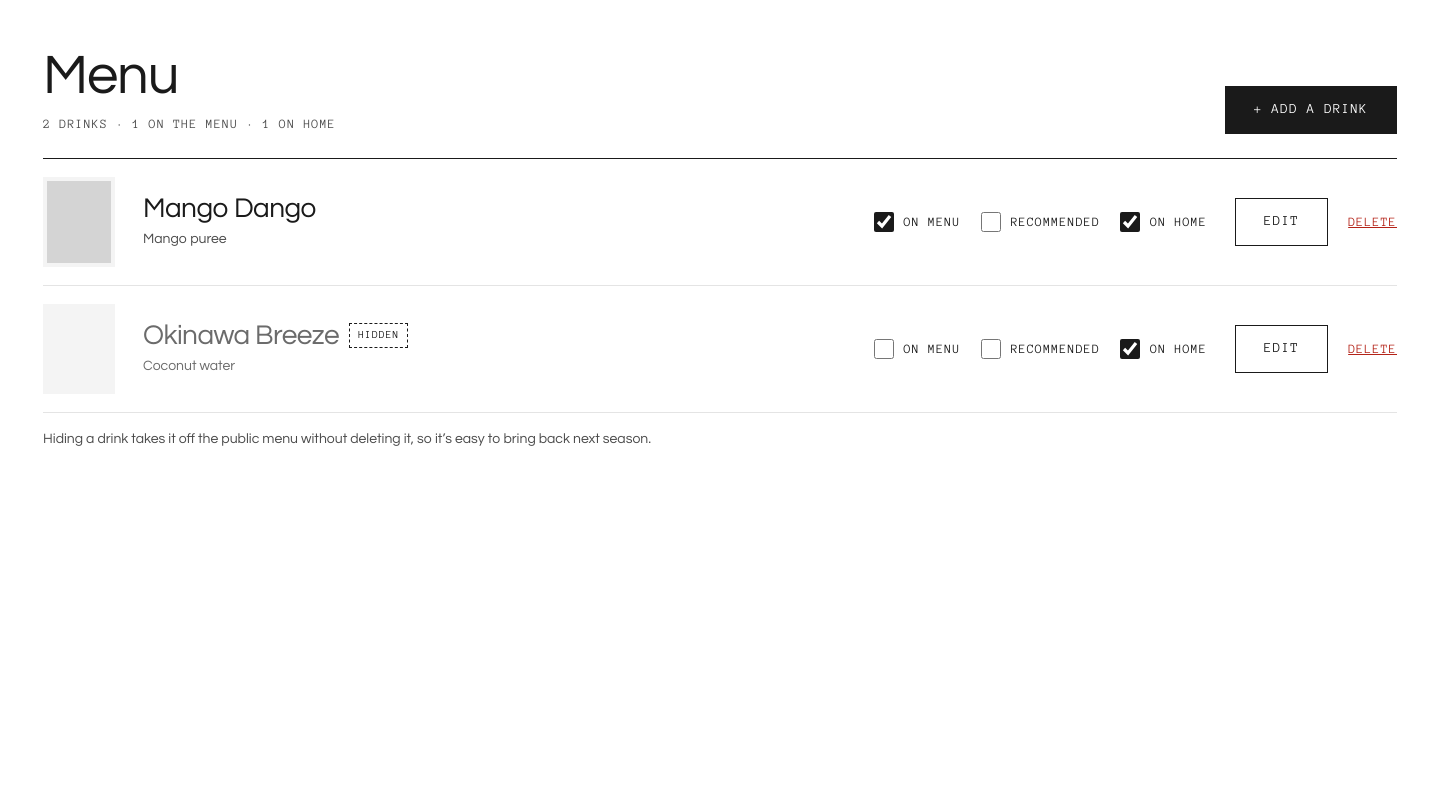
Test: keeps the row and dialog open and shows an error when delete fails
Click the button named "Delete Mango Dango" at {"x": 1373, "y": 222}, box [1348, 200, 1397, 244]
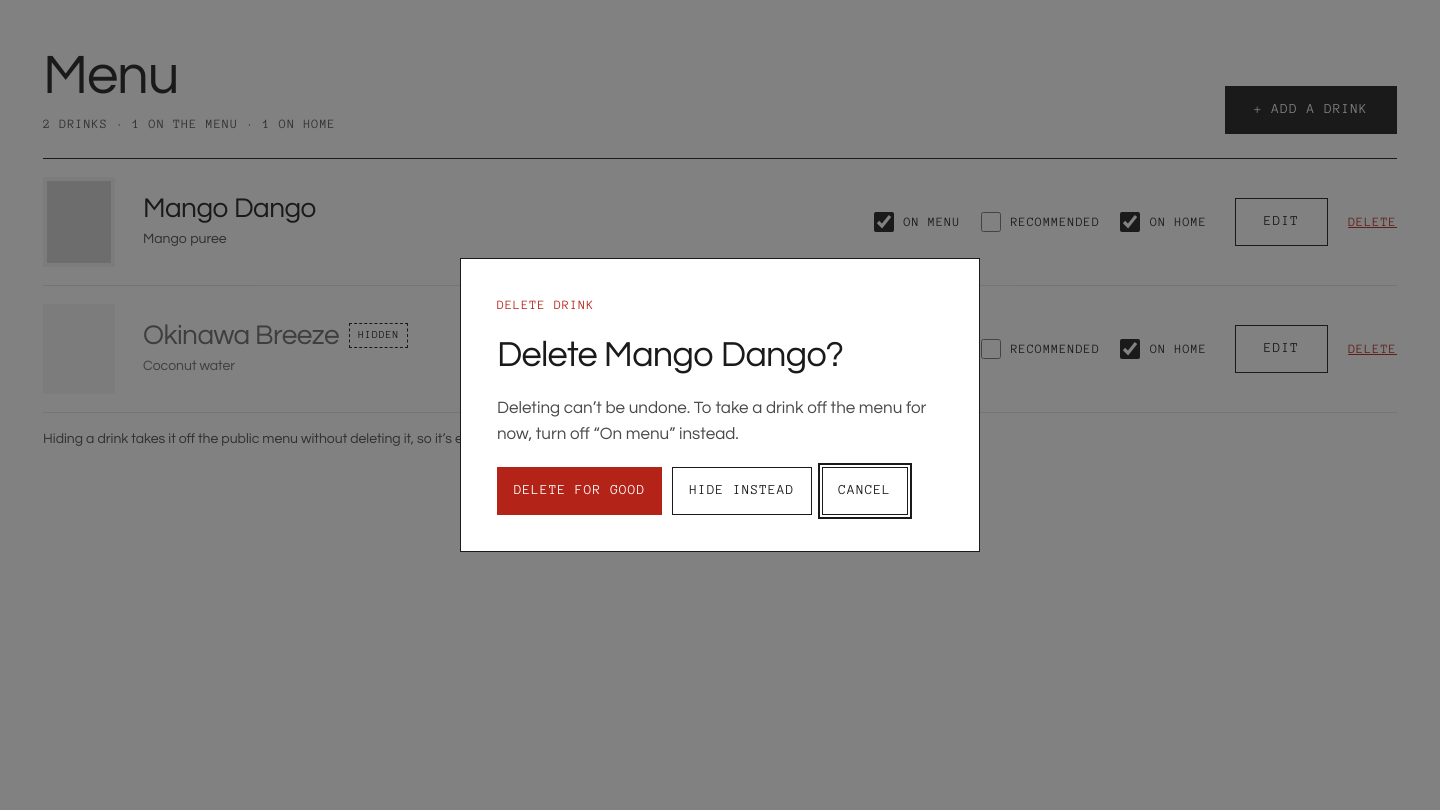
Click the button "Delete for good" at {"x": 580, "y": 491}, box [497, 467, 662, 515]
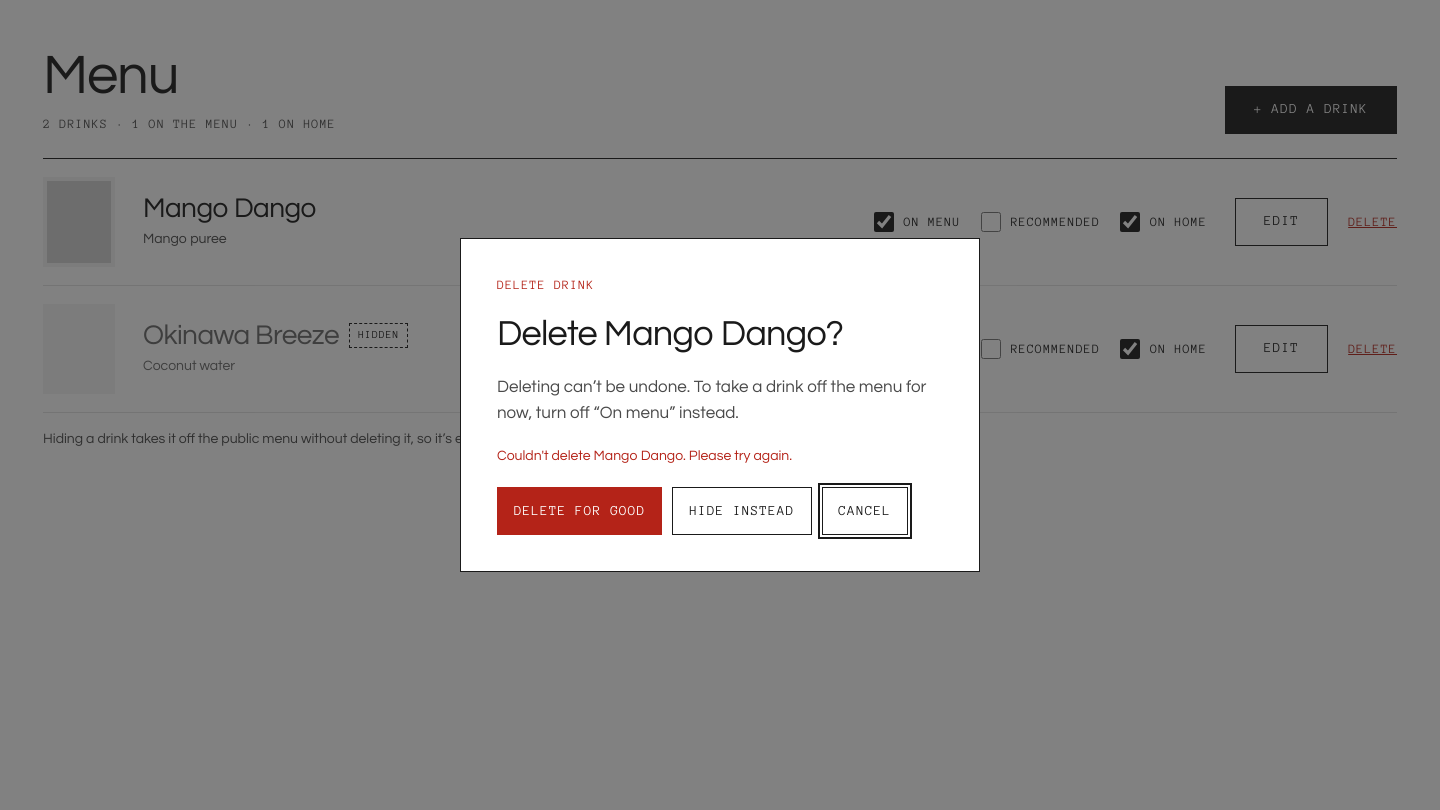
Expected: the checkbox named "On menu: Mango Dango" is shown, [874, 212, 894, 232]
Expected: the dialog is shown, [460, 238, 980, 572]
Expected: the message shows "Couldn't delete Mango Dango", [497, 449, 792, 463]
